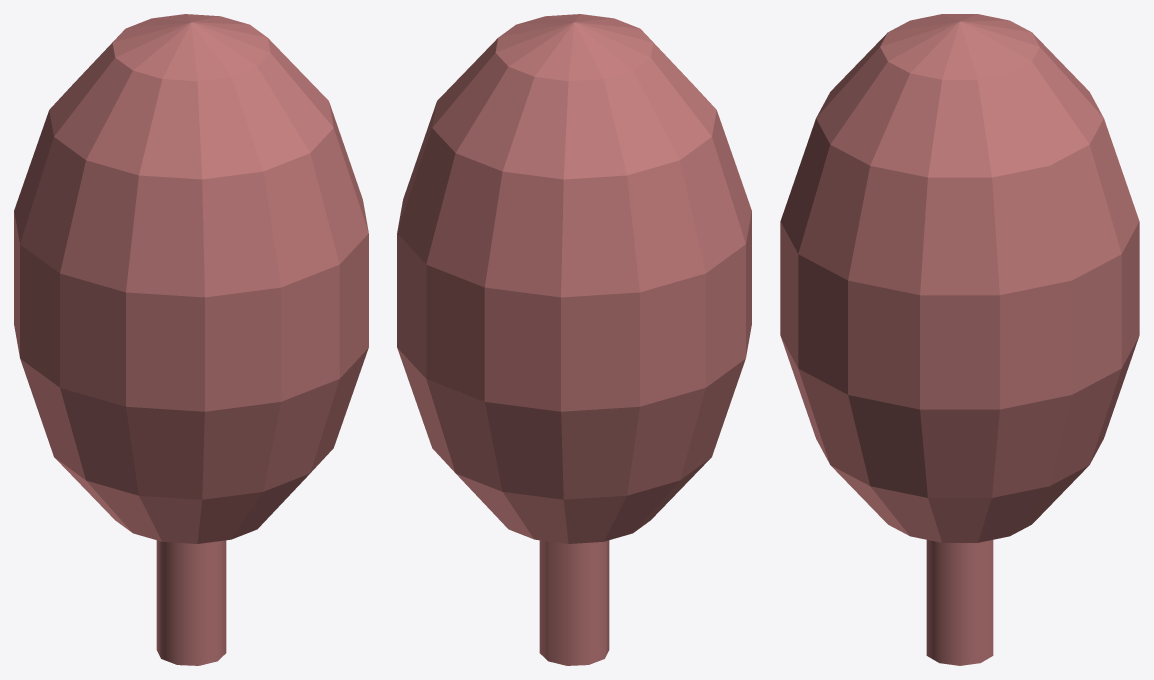
Rendered from tree5.glb.
3 renders of one model, left to right at view 1: azimuth 30°, elevation 25°; view 2: azimuth 150°, elevation 25°; view 3: azimuth 270°, elevation 25°, orthographic.
Parts seen in each view (by area): view 1: x3ds_Sphere01, x3ds_Cylinder01; view 2: x3ds_Sphere01, x3ds_Cylinder01; view 3: x3ds_Sphere01, x3ds_Cylinder01.
Boxes of the visible parts, x1=… form: x3ds_Sphere01: x1=14, y1=14, x2=368, y2=543; x3ds_Cylinder01: x1=156, y1=540, x2=226, y2=665; x3ds_Sphere01: x1=397, y1=14, x2=751, y2=543; x3ds_Cylinder01: x1=539, y1=540, x2=609, y2=665; x3ds_Sphere01: x1=780, y1=14, x2=1139, y2=542; x3ds_Cylinder01: x1=926, y1=540, x2=993, y2=665.
Size of the model in its own units: 76.04 by 151 by 77.99.
